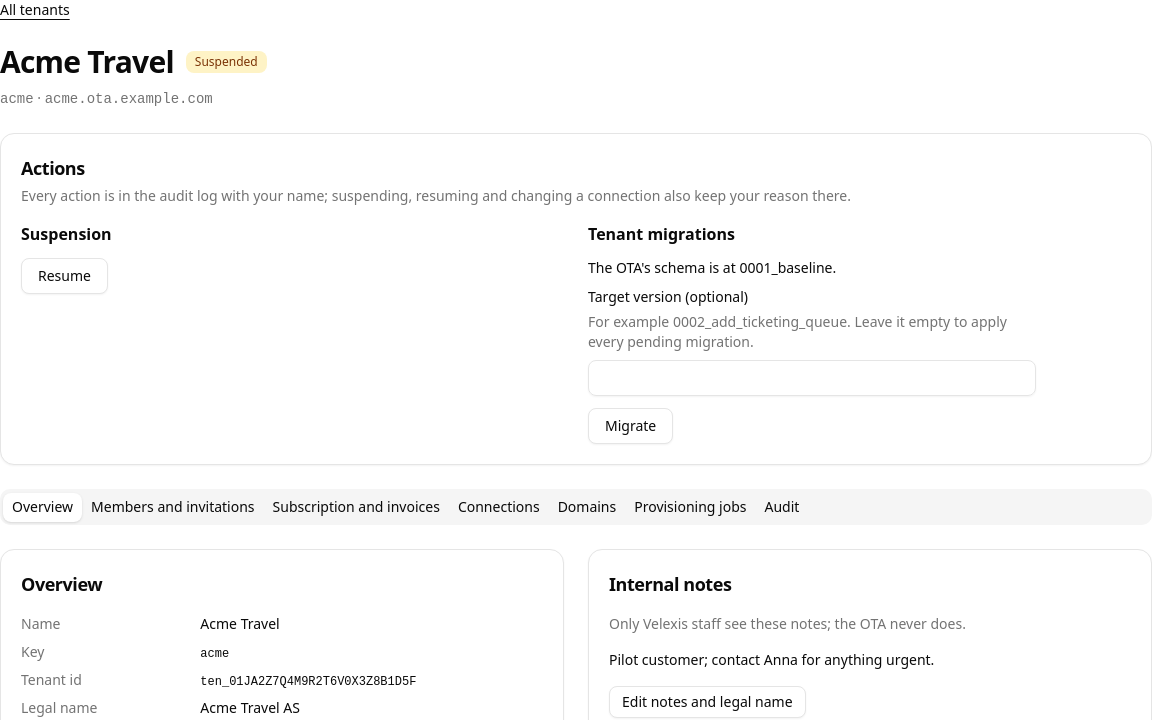
Test: suspend and resume (PADR-0014, PF-82) › [PAD-005 AC1] resuming requires a reason and shows the new status and the resume job [PF-82]
The image size is (1152, 720).
Click the button "Resume". click: point(64, 276)
box: x1=21 y1=258 x2=108 y2=294
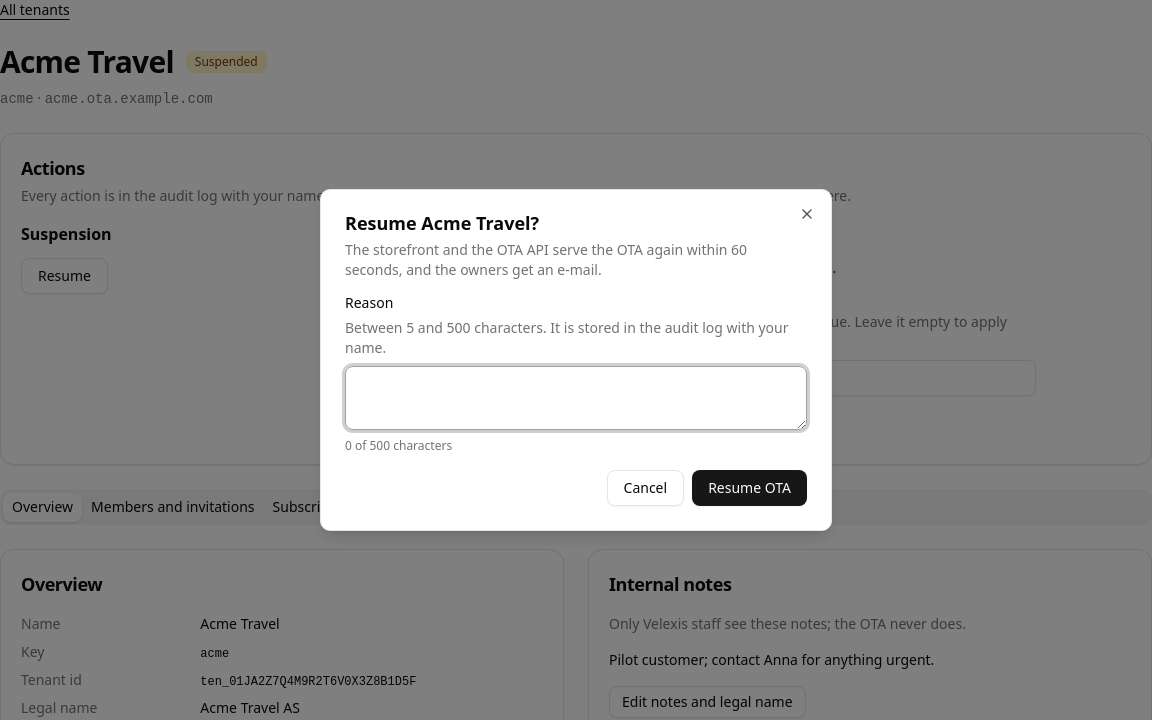
Now the text "The storefront and the OTA API serve the OTA again within 60 seconds, and the owners get an e-mail." is shown, box x1=345 y1=240 x2=747 y2=279
Submit the form named "Resume OTA", box x1=345 y1=296 x2=807 y2=506
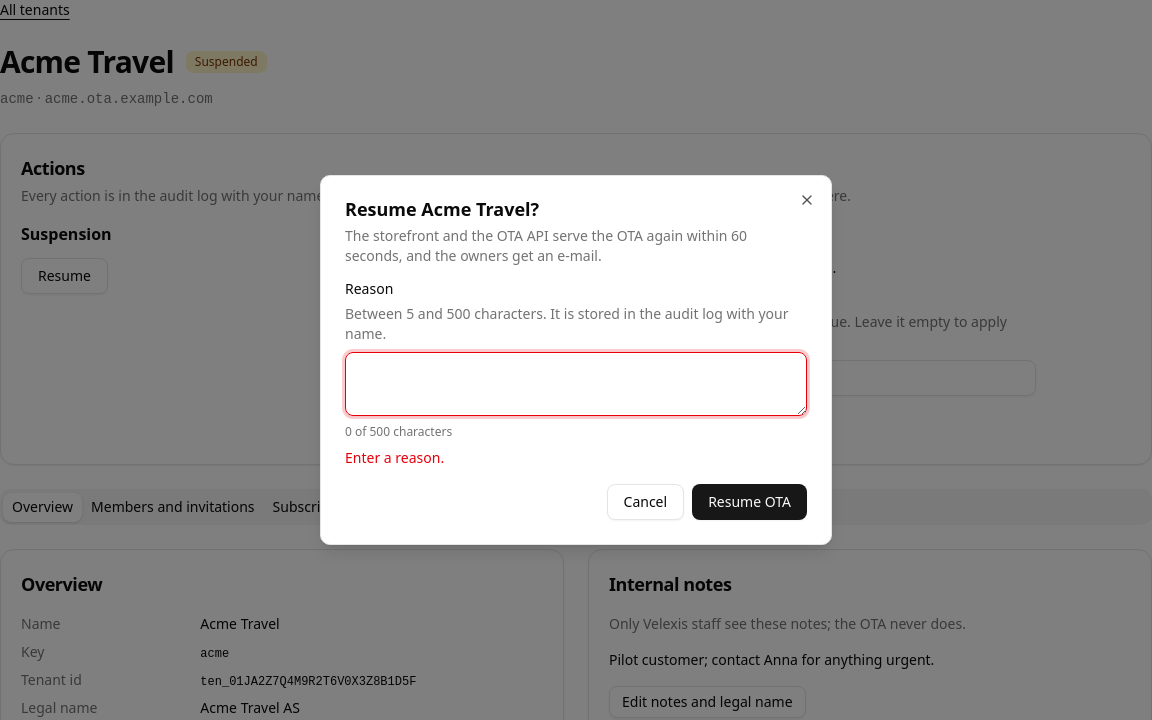
Now the text "Enter a reason." is shown, box x1=345 y1=448 x2=444 y2=467
Type "The OTA removed the test scripts." into the text box labelled "Reason". click: point(576, 384)
box: x1=345 y1=352 x2=807 y2=416
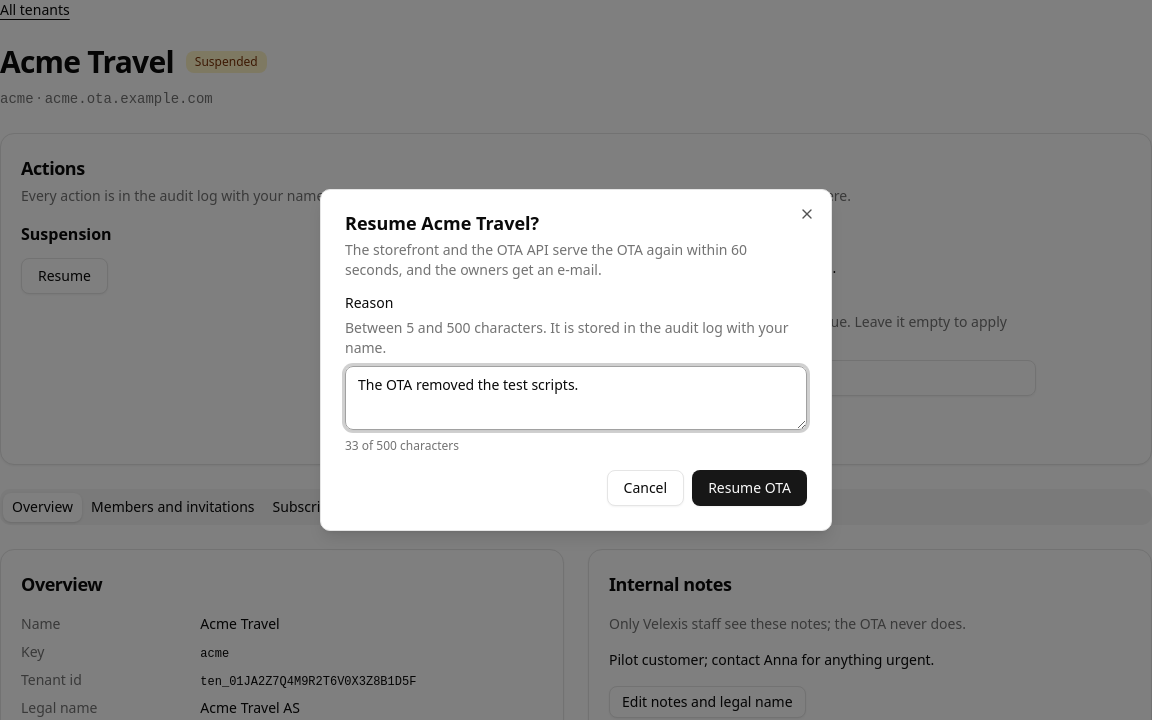
Submit the form named "Resume OTA", box x1=345 y1=296 x2=807 y2=506
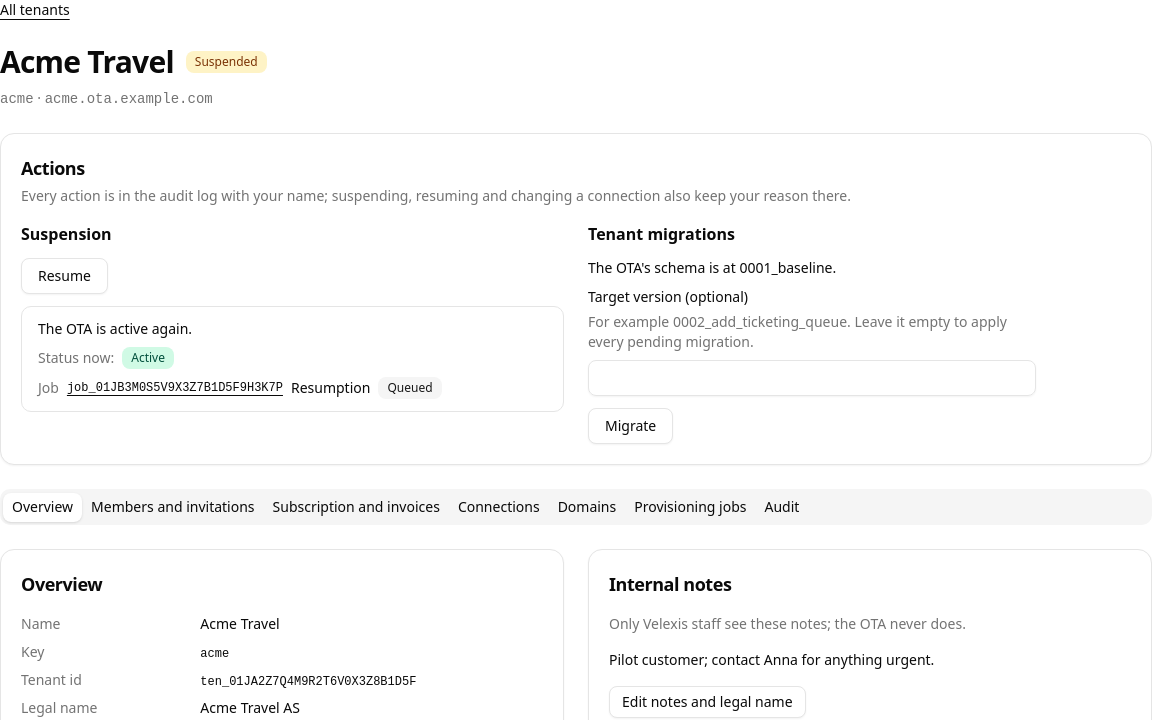
Now the text "The OTA is active again." is shown, box x1=38 y1=319 x2=192 y2=338
Now the text "Active" is shown, box x1=122 y1=347 x2=174 y2=369
Now the text "Resumption" is shown, box x1=291 y1=378 x2=370 y2=398
